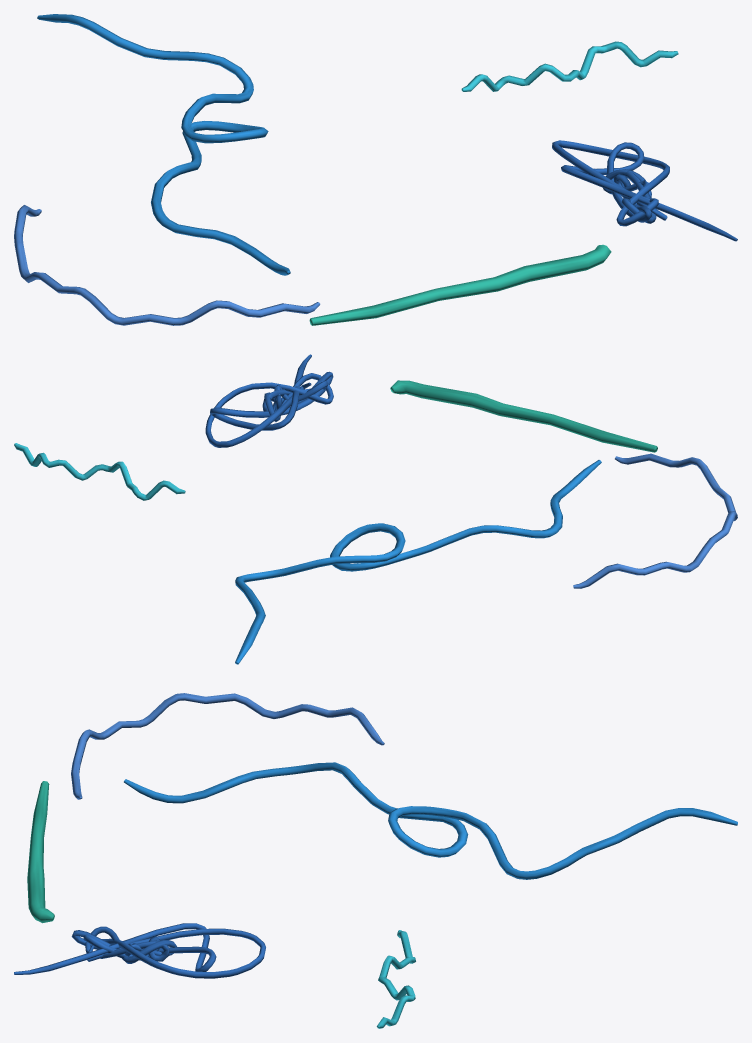
File: serat.glb
The picture shows the model from 3 angles, top to bottom: view 1: azimuth 30°, elevation 25°; view 2: azimuth 150°, elevation 25°; view 3: azimuth 270°, elevation 25°; orthographic projection. The views are drawn at different scales.
Parts seen in each view (by area): view 1: serat; view 2: serat; view 3: serat.
Boxes of the visible parts, x1,y1,x2,y2 form: serat: (14, 14, 737, 325); serat: (14, 354, 737, 664); serat: (14, 693, 737, 1028).
Size of the model in its own units: 0.4008 by 0.0197 by 0.3776.
5 materials, 5 textured.
